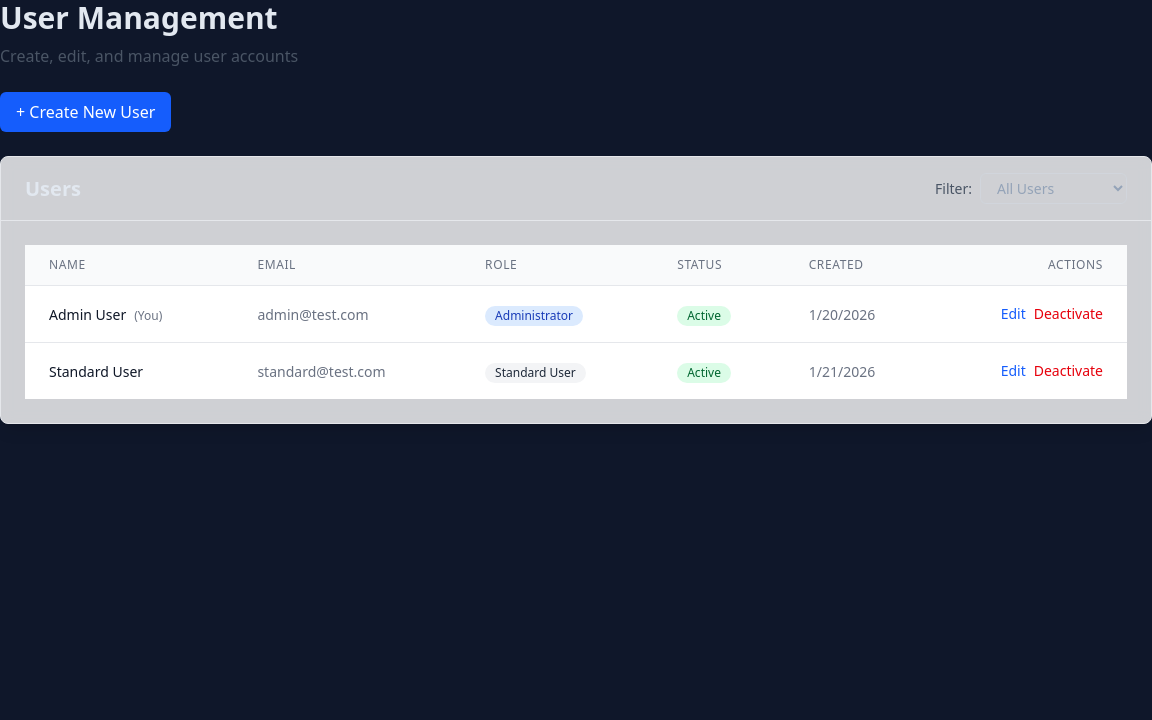
Test case: UserManagement › shows confirmation dialog when deactivating user
This screenshot has width=1152, height=720.
Expected: the text "standard@test.com" is shown, [257, 362, 386, 381]
Click the button with aria-label "Deactivate user": click(1068, 371) [1034, 361, 1103, 381]
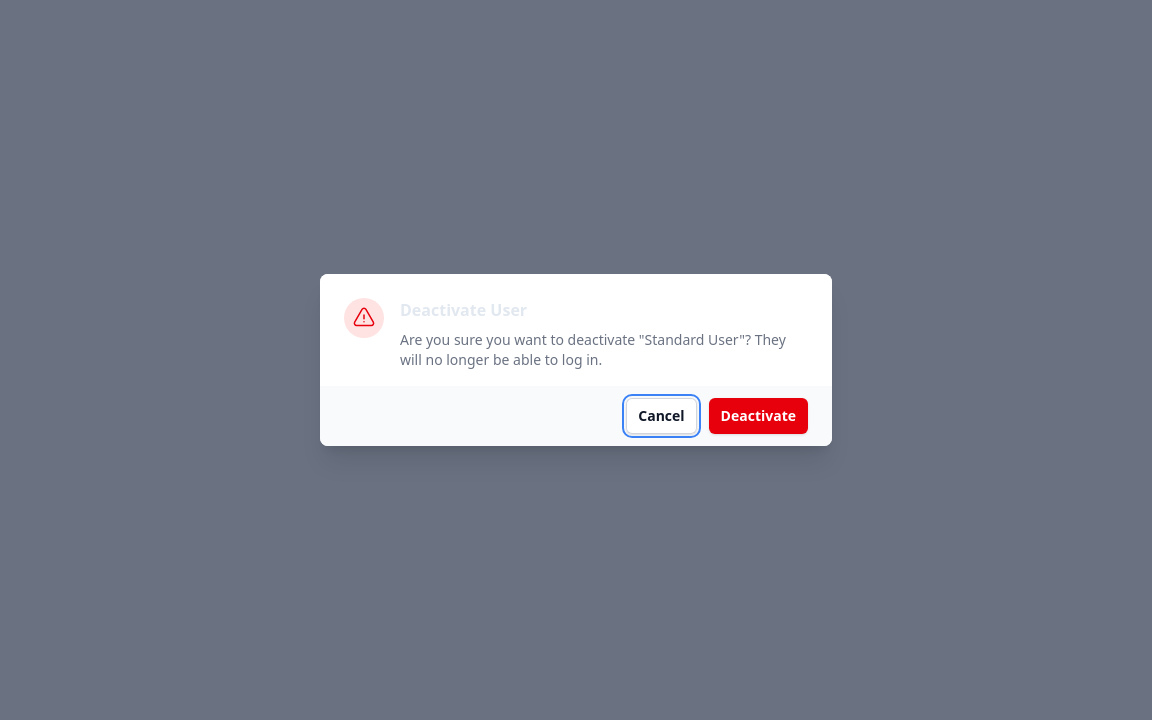
Now the heading "Deactivate User" is shown, box [400, 299, 527, 321]
